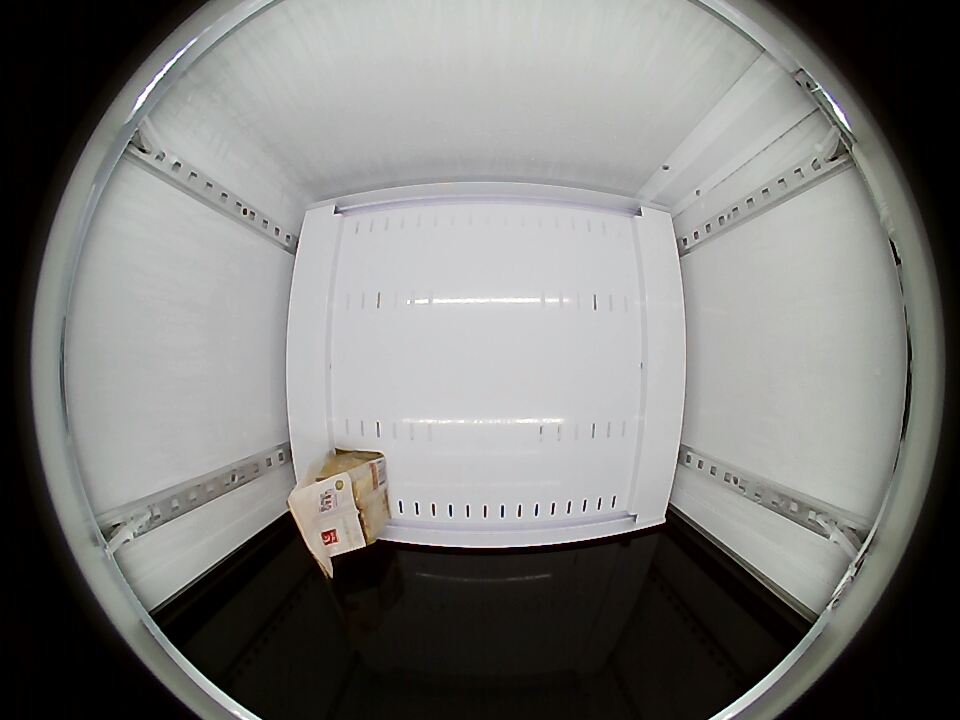zaocanmofang: (288, 464, 379, 561)
